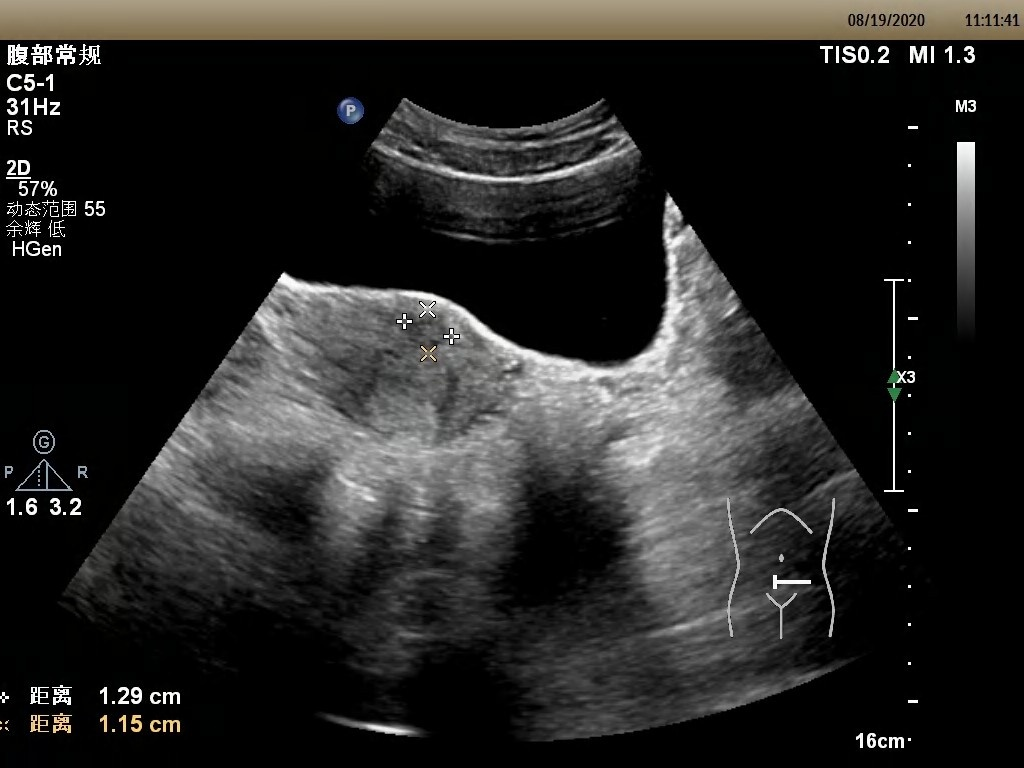肌瘤: (405, 312, 448, 353)
